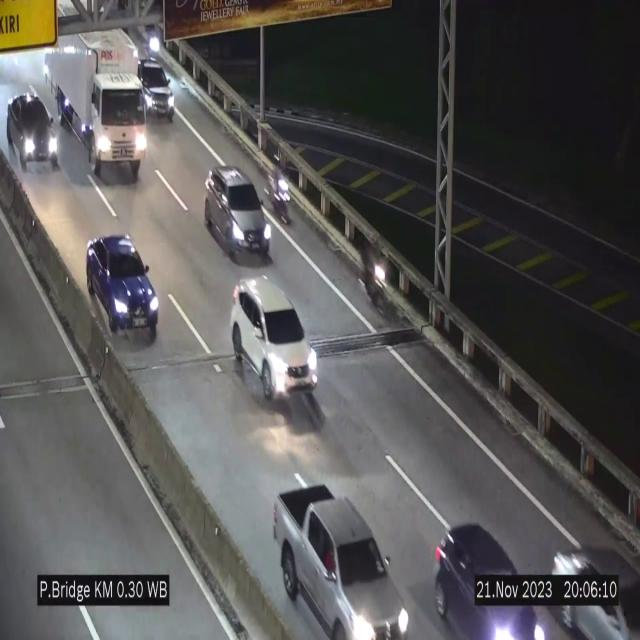Car: (274, 486, 414, 638), (430, 503, 547, 640), (540, 525, 640, 640), (231, 273, 318, 399), (86, 236, 158, 340), (204, 168, 272, 260), (134, 41, 178, 136), (4, 95, 58, 171)
Motorcycle: (363, 230, 391, 322), (268, 152, 292, 231), (144, 23, 168, 72)
Truck: (41, 34, 148, 178)
